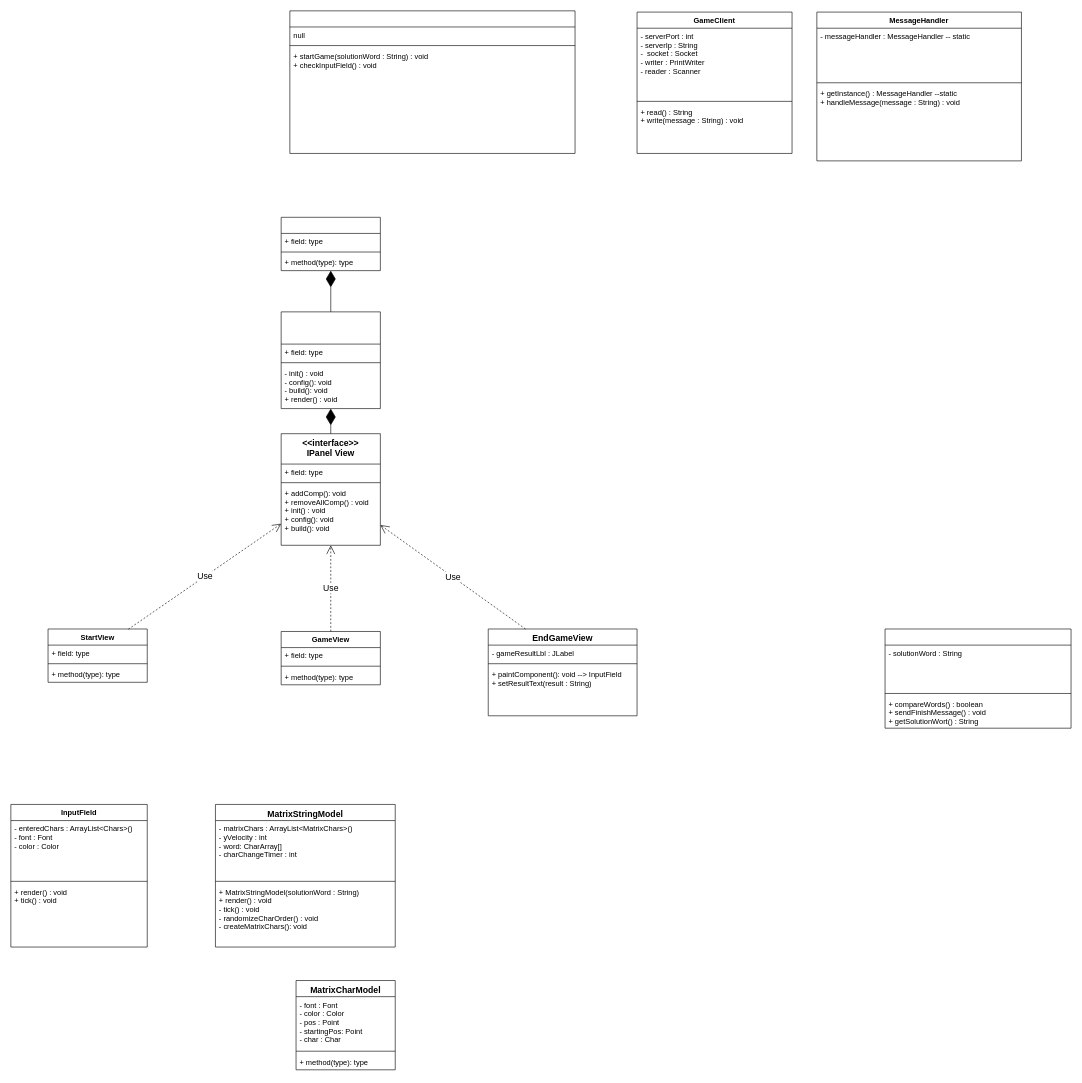
This 1082x1083 diagram has some shape labels left out. The shapes that lost their labels are listed below. From the top down, each one's box as (x1, y1, x2, y2) in pixels, then its label:
(289, 10, 575, 153): MainController
(281, 217, 380, 271): Frame-> Startframe
(281, 311, 380, 409): ContainerView extends JPanel
(884, 628, 1071, 728): GameModel
